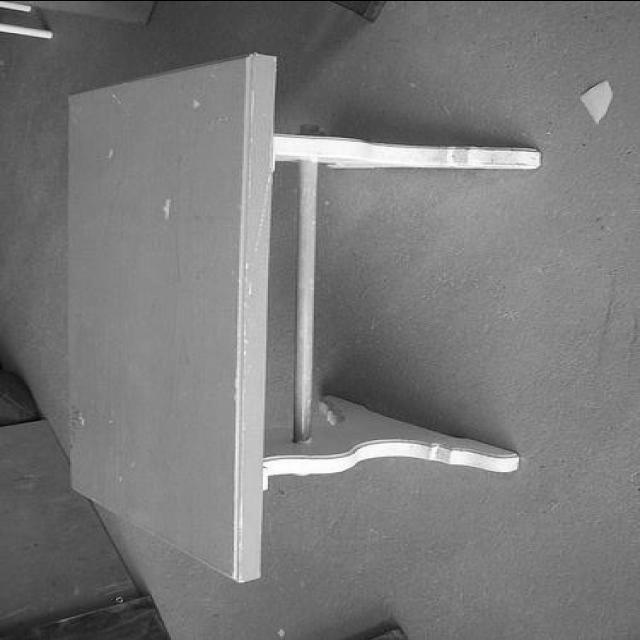table: (62, 42, 542, 582)
